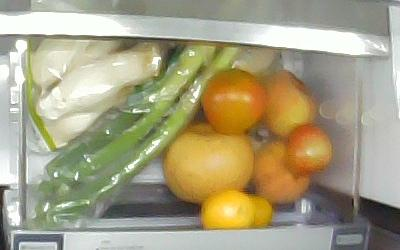peach: (260, 70, 318, 137), (254, 139, 311, 203)
pear: (163, 124, 254, 203)
tangerine: (199, 190, 255, 233), (247, 194, 273, 228)
tomato: (203, 67, 264, 134), (285, 125, 333, 173)
